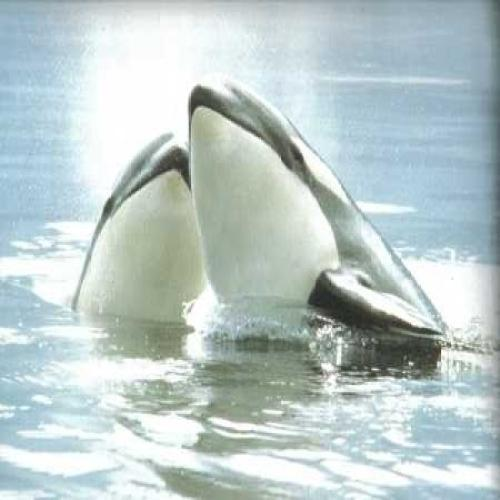killer_whale-endangered: (180, 62, 458, 380), (53, 97, 225, 343)
